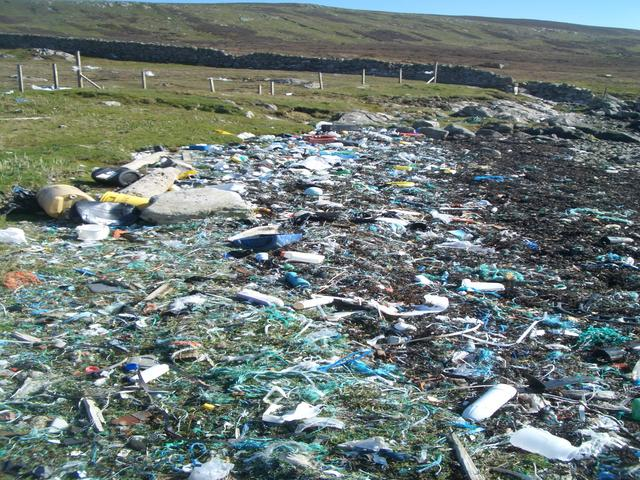garbage: (177, 145, 630, 474)
